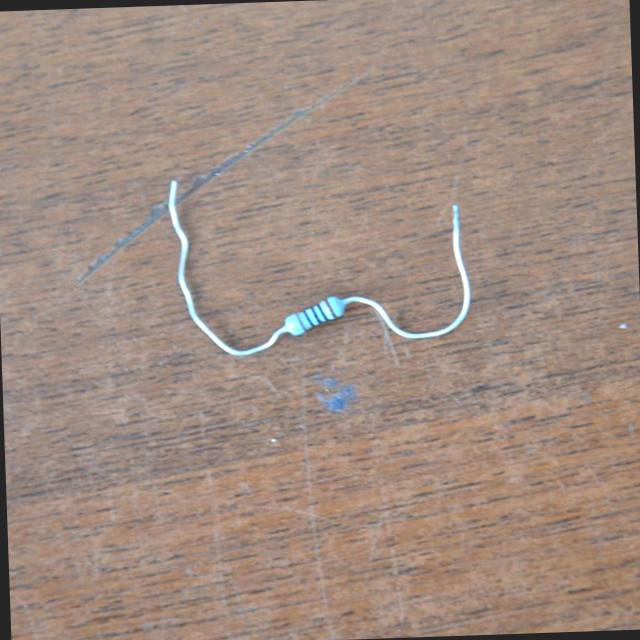Resistor: (280, 294, 348, 339)
black: (302, 310, 315, 328), (316, 304, 329, 320), (311, 307, 322, 323)
brown: (324, 299, 338, 320), (294, 313, 307, 332)
